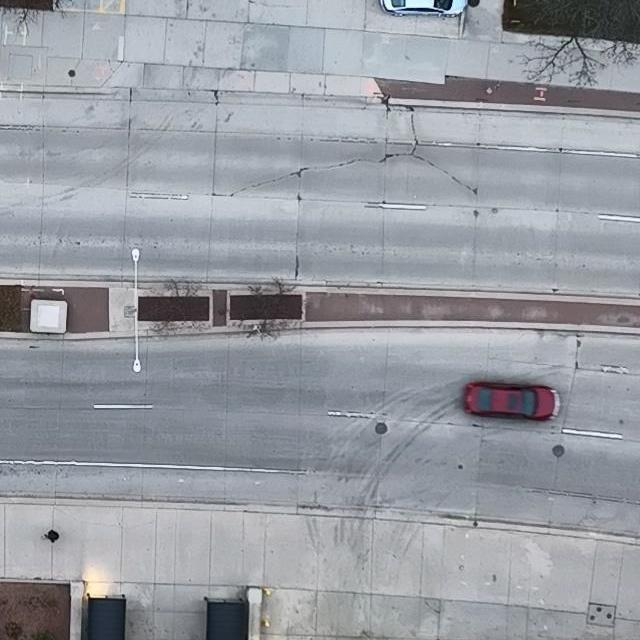car: (465, 382, 560, 419), (377, 0, 467, 16)
